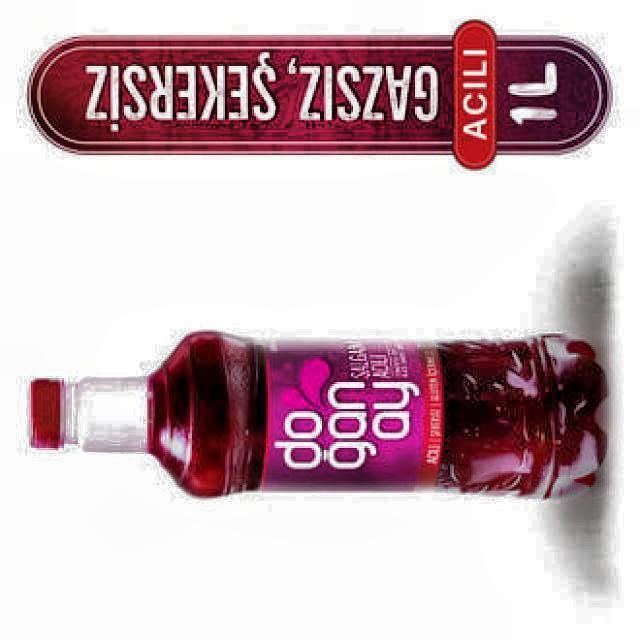plastic: (30, 331, 608, 497)
